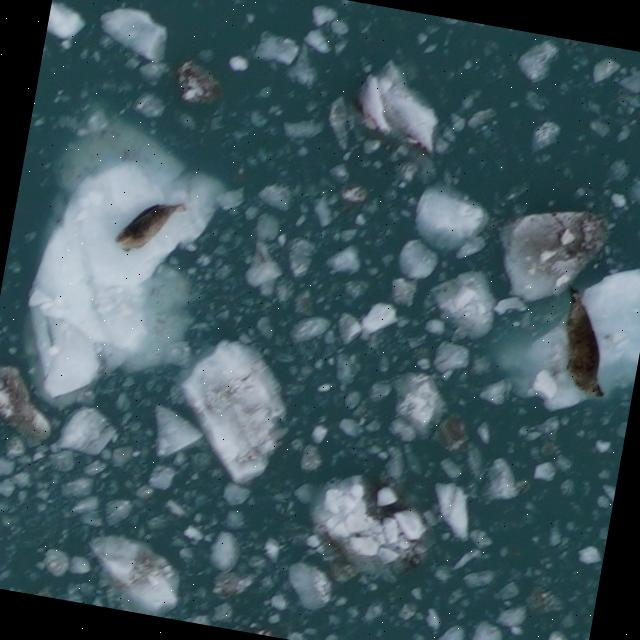seal: (548, 283, 622, 402), (108, 186, 193, 264)
